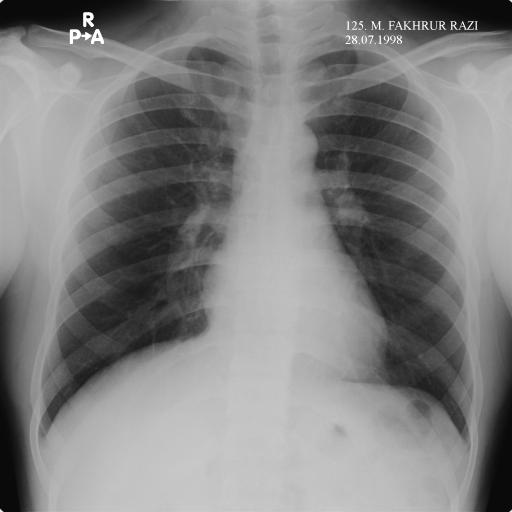normal: (16, 18, 488, 470)
